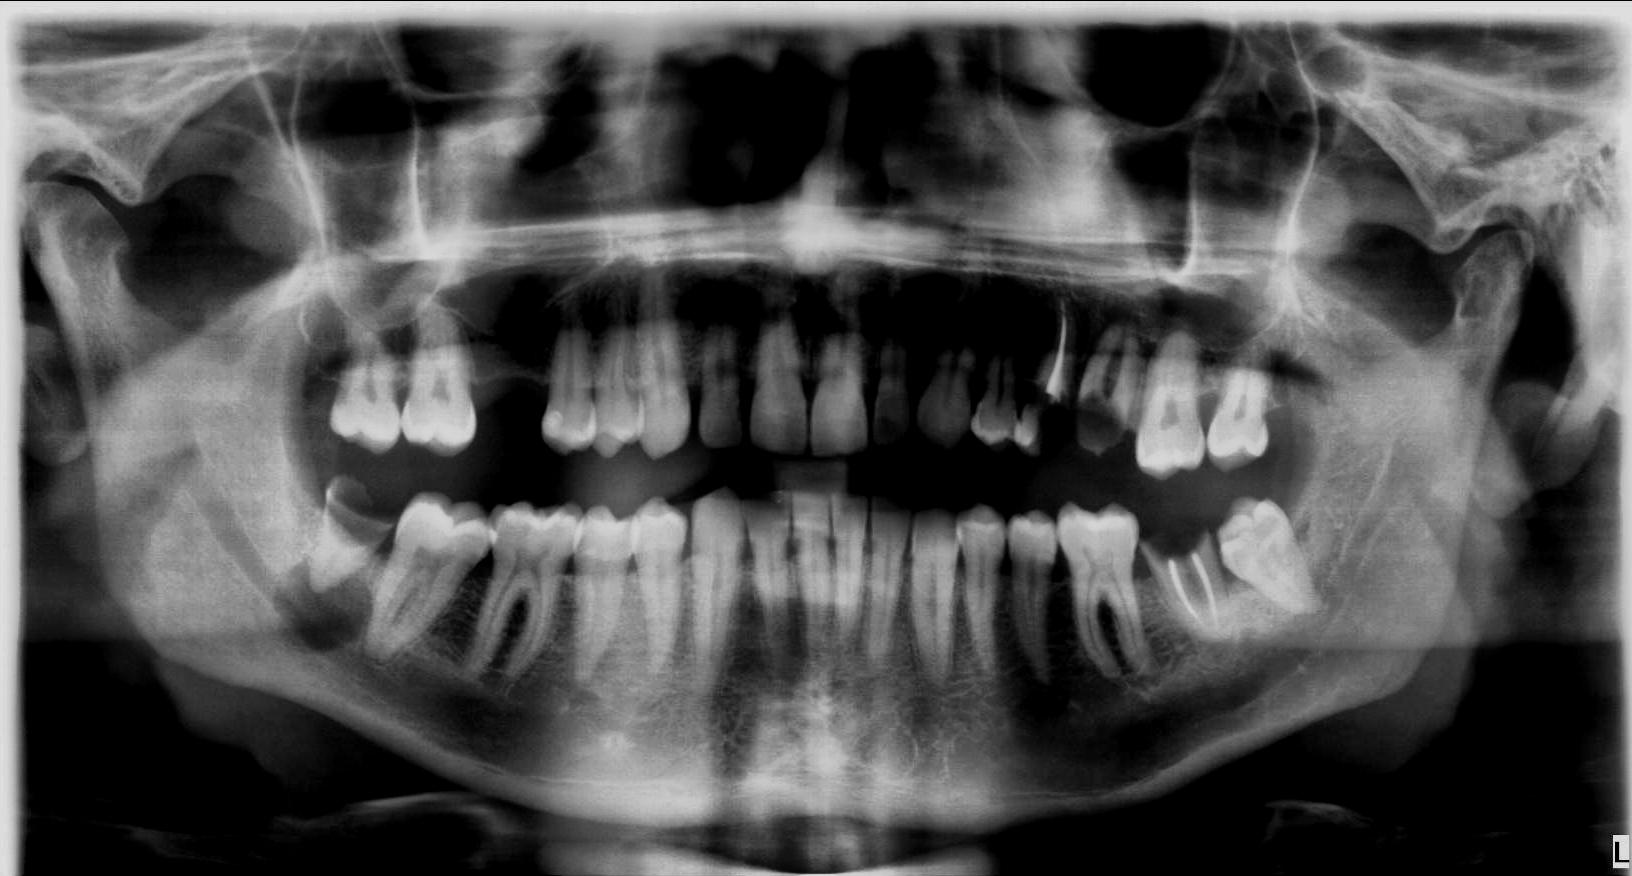radikuler: (270, 558, 374, 656)
